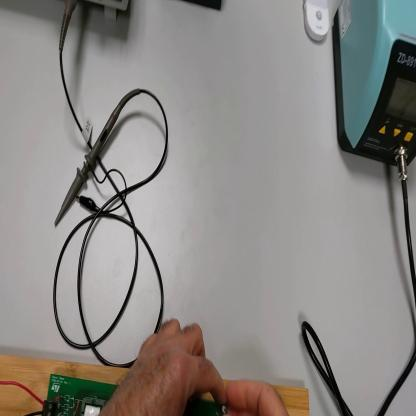hand: (107, 319, 227, 415), (224, 380, 288, 416)
high voltage board: (1, 373, 229, 416)
oscilloscope: (90, 1, 130, 23)
oscilloscope probe tip: (56, 98, 123, 229)
welder station: (333, 1, 416, 173)
working area: (2, 357, 310, 415)
